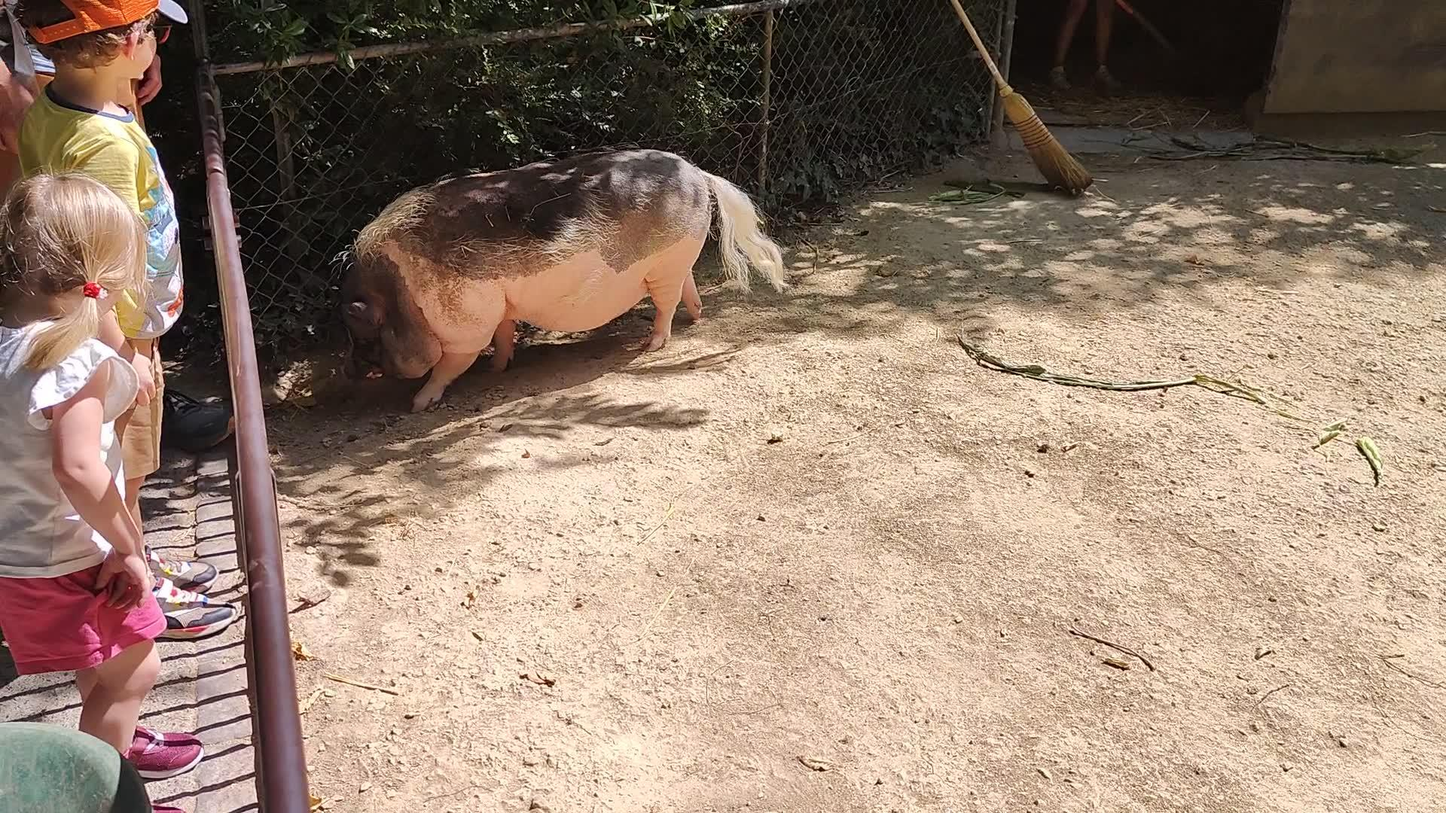bear: (330, 149, 783, 414)
